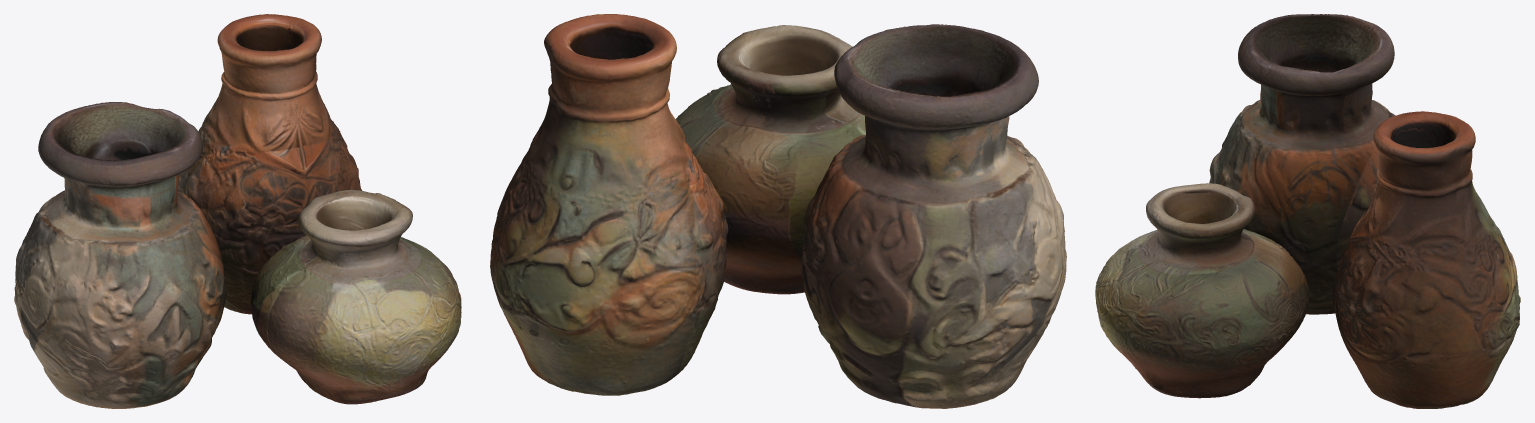
File: a241_comlek_takimi.glb
The picture shows the model from 3 angles, left to right: view 1: azimuth 30°, elevation 25°; view 2: azimuth 150°, elevation 25°; view 3: azimuth 270°, elevation 25°; orthographic projection. The views are drawn at different scales.
Size of the model in its own units: 1.9 by 1.26 by 1.9.
Materials: 1 (1 with a texture image).
